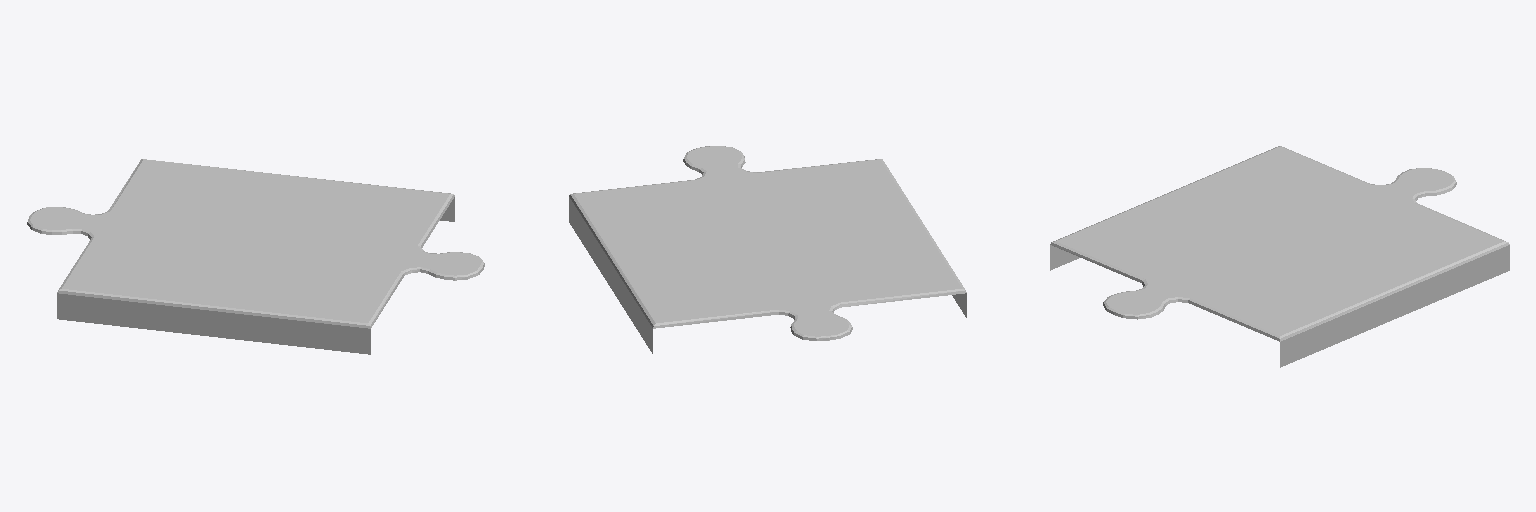
File: Diagonal RTL Knobs.obj
3 views of the same model, side by side, from view 1: azimuth 30°, elevation 25°; view 2: azimuth 150°, elevation 25°; view 3: azimuth 270°, elevation 25° (orthographic).
Parts seen in each view (by area): view 1: PuzzleStraightDiagonalRTLKnobs; view 2: PuzzleStraightDiagonalRTLKnobs; view 3: PuzzleStraightDiagonalRTLKnobs.
Boxes of the visible parts, <box> form: PuzzleStraightDiagonalRTLKnobs: <box>27,159,484,354</box>; PuzzleStraightDiagonalRTLKnobs: <box>569,146,966,353</box>; PuzzleStraightDiagonalRTLKnobs: <box>1050,146,1509,367</box>.
Size of the model in its own units: 835 by 59.05 by 835.